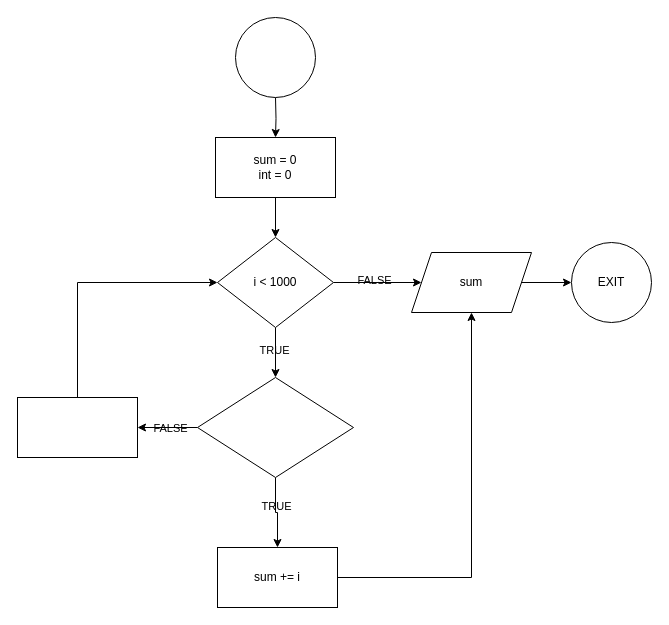
Some shapes in this 669 by 625 pixel diagram are drawn without their labels. The centre of each missing label's shape, as x and y in pixels:
i % 3 == 0 || i % 5 == 0: the point at 275,427
İ++: the point at 77,427
START: the point at 275,57
